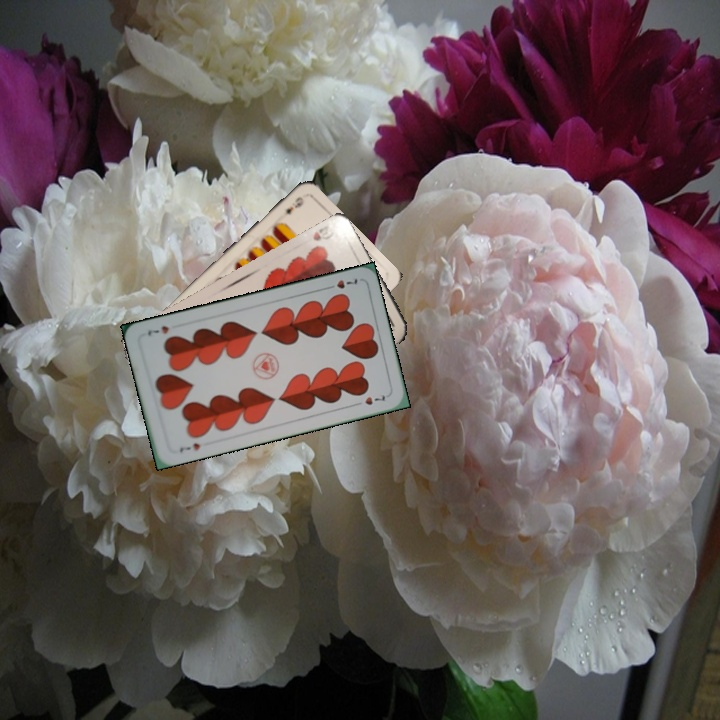E9: (281, 193, 306, 218)
H10: (309, 220, 337, 244)
H7: (321, 275, 361, 292), (175, 439, 203, 455)
